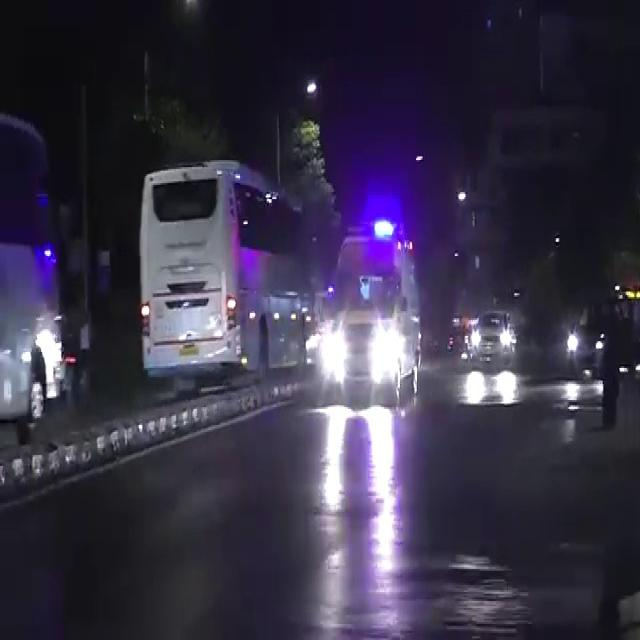ambulance: (304, 215, 441, 385)
